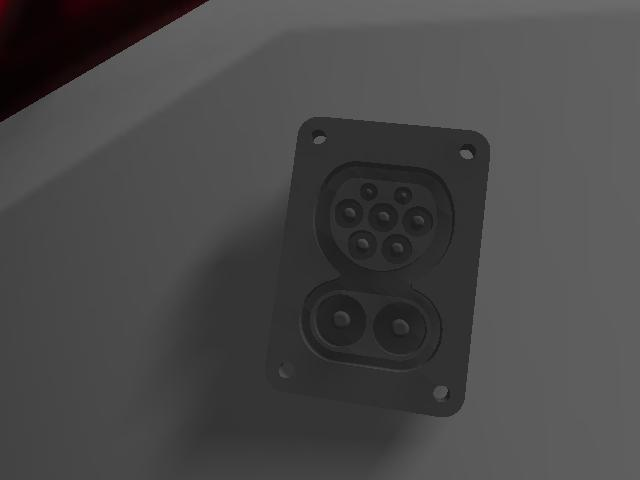EV-socket: (265, 118, 489, 416)
